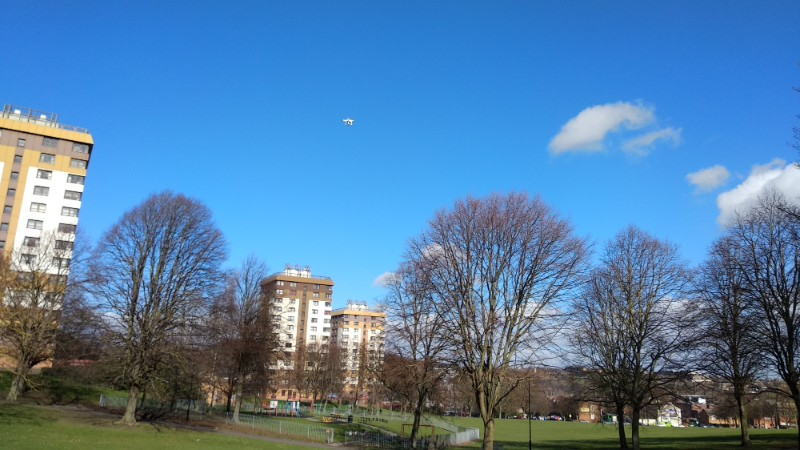drone: (341, 116, 354, 125)
